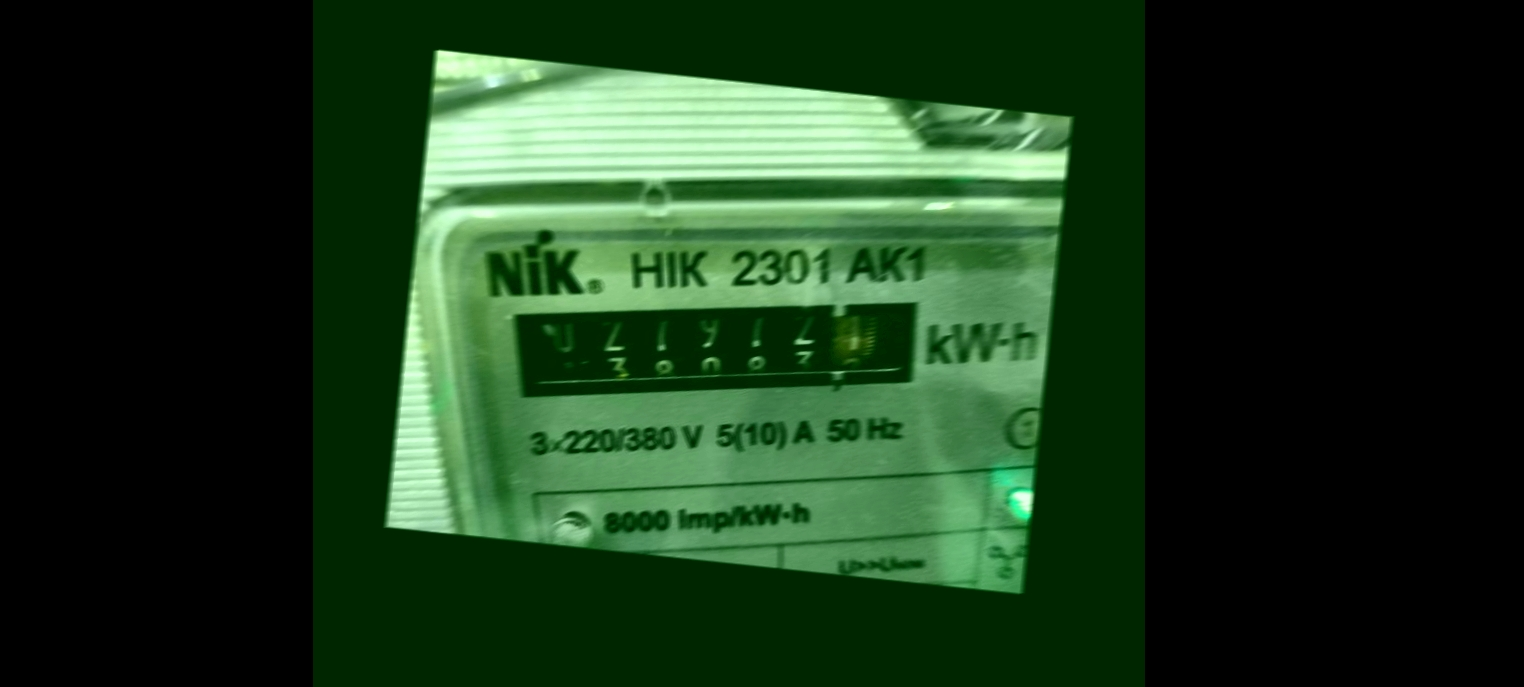0: (548, 315, 580, 354)
1: (843, 309, 869, 354)
2: (598, 311, 631, 353), (789, 307, 821, 347)
7: (742, 307, 772, 351), (648, 313, 675, 353)
9: (696, 311, 725, 349)
screen: (489, 249, 954, 449)
